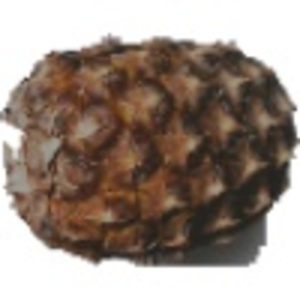abacaxi: (3, 31, 289, 253)
